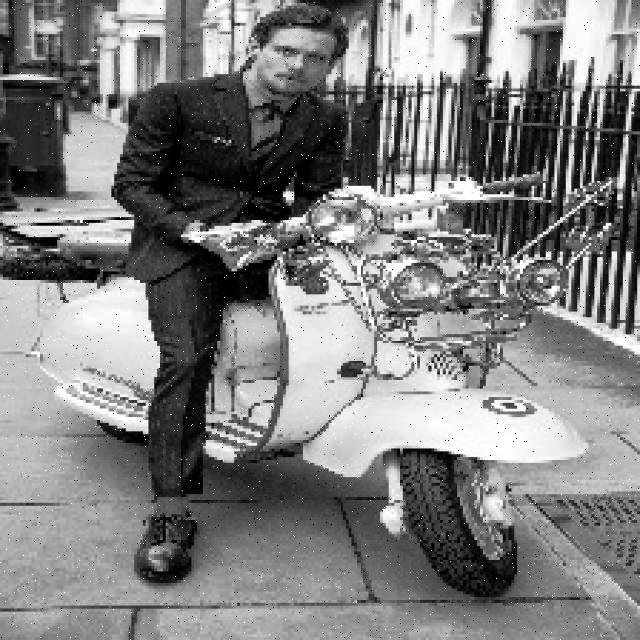Bike: (61, 217, 617, 603)
